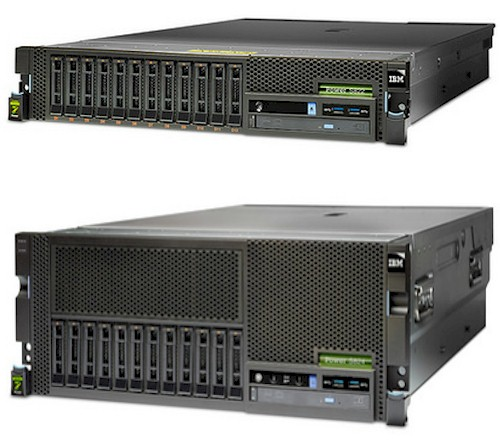ibm-server: (9, 201, 496, 430), (7, 12, 496, 155)
